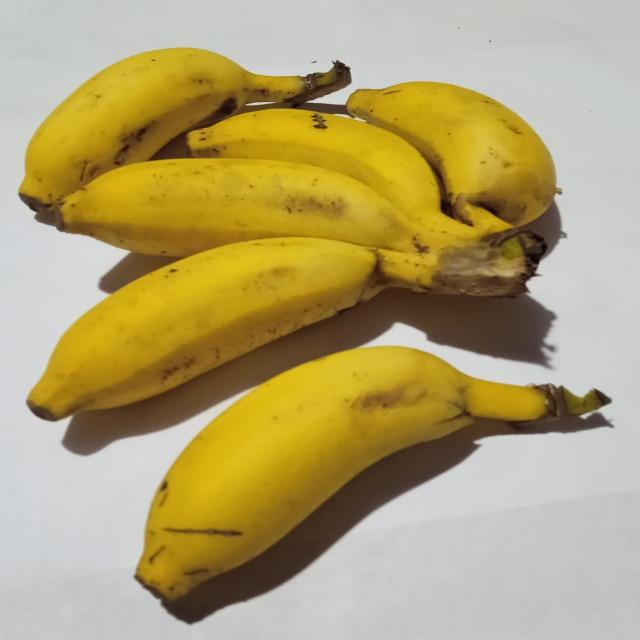banana: (137, 347, 610, 599), (28, 235, 536, 420), (20, 48, 350, 210), (187, 109, 510, 243), (53, 158, 464, 256), (347, 82, 556, 226)
